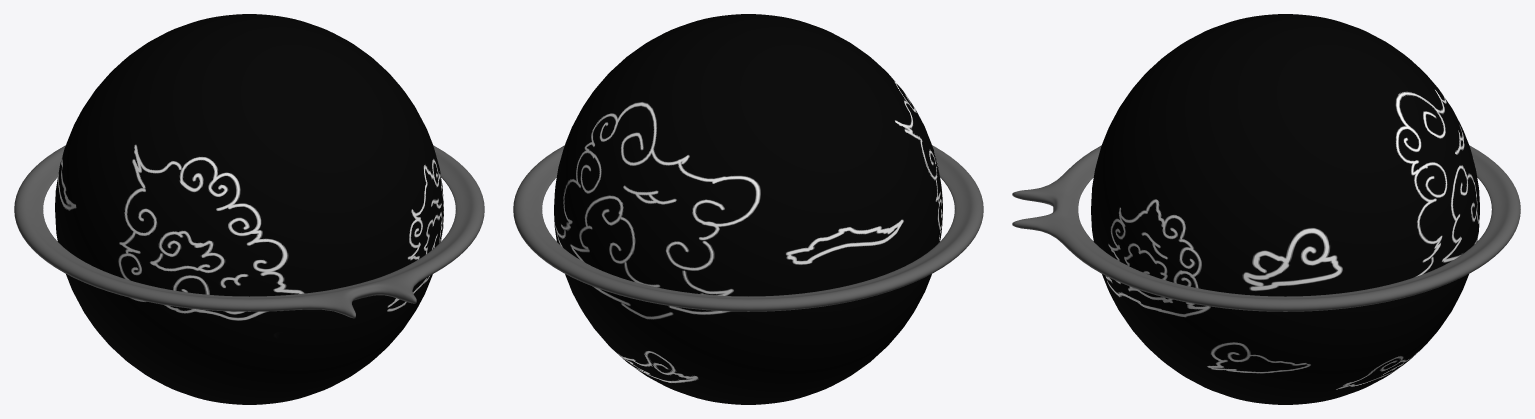
Rendered from star-compass.glb.
3 views of the same model, side by side, from view 1: azimuth 30°, elevation 25°; view 2: azimuth 150°, elevation 25°; view 3: azimuth 270°, elevation 25° (orthographic).
Parts seen in each view (by area): view 1: Object_6, Object_9; view 2: Object_6, Object_9; view 3: Object_6, Object_9.
Boxes of the visible parts, <box> form: Object_6: <box>55,14,443,404</box>; Object_9: <box>14,145,484,318</box>; Object_6: <box>554,14,942,404</box>; Object_9: <box>513,145,983,311</box>; Object_6: <box>1091,14,1479,404</box>; Object_9: <box>1012,145,1520,311</box>.
Bounding box in the file's own units: 2.39 × 2 × 2.58.
Materials: 5 (1 with a texture image).
